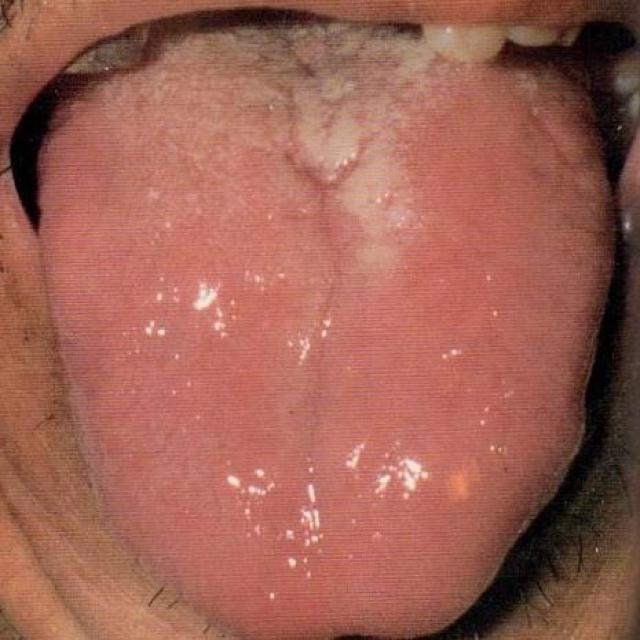tongue: (25, 37, 608, 640)
